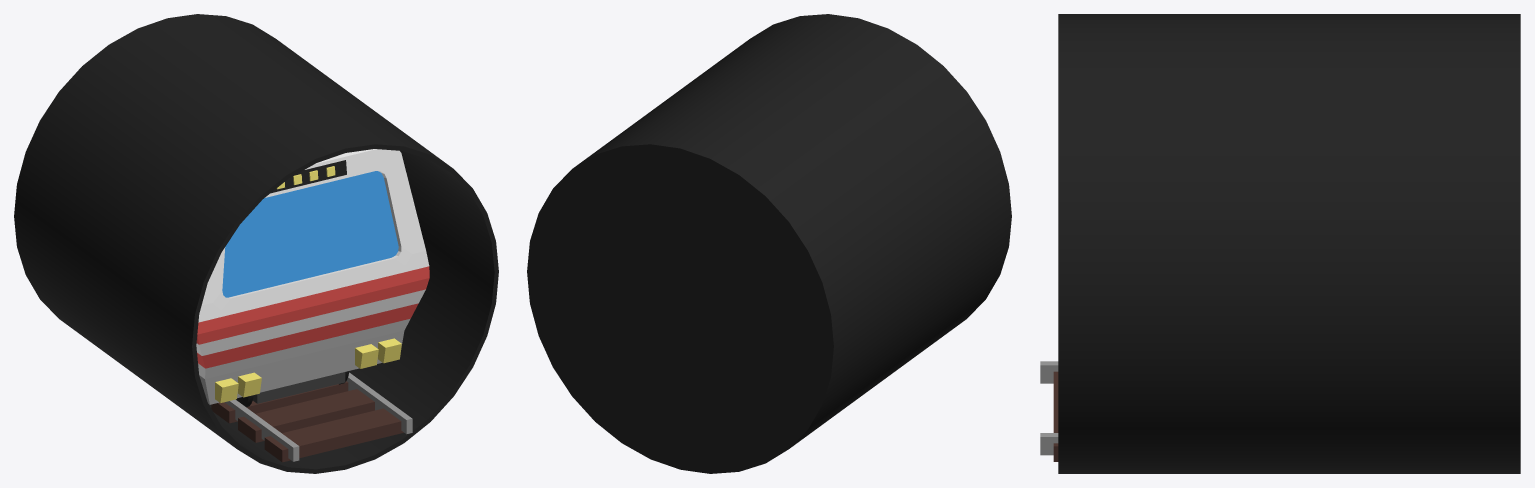
Rendered from metro.gltf.
The picture shows the model from 3 angles, left to right: view 1: azimuth 30°, elevation 25°; view 2: azimuth 150°, elevation 25°; view 3: azimuth 270°, elevation 25°; orthographic projection. The views are drawn at different scales.
Visible parts, largest first — view 1: Cylinder.434; view 2: Cylinder.434; view 3: Cylinder.434.
Part boxes in pixels (x1,y1,x2,y2): Cylinder.434: (14, 14, 498, 473); Cylinder.434: (527, 14, 1011, 473); Cylinder.434: (1040, 14, 1520, 473).
Bounding box in the file's own units: 2.06 × 2.06 × 2.15.
1 material, 1 textured.
